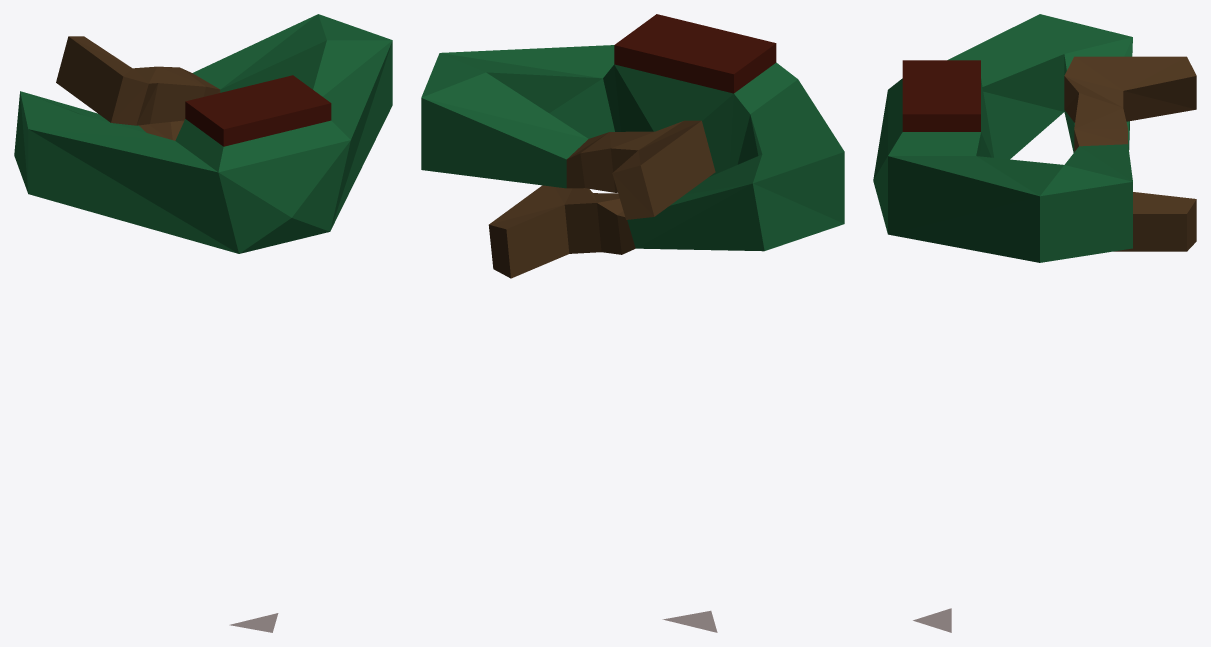
File: npc_world_genie_6.obj
The picture shows the model from 3 angles, left to right: view 1: azimuth 30°, elevation 25°; view 2: azimuth 150°, elevation 25°; view 3: azimuth 270°, elevation 25°; orthographic projection. The views are drawn at different scales.
Size of the model in its own units: 0.6875 by 0.9375 by 0.5156.
